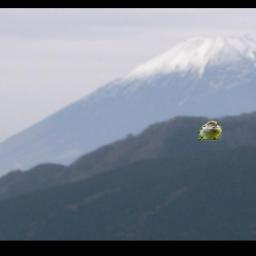Sparrow: (197, 121, 220, 141)
